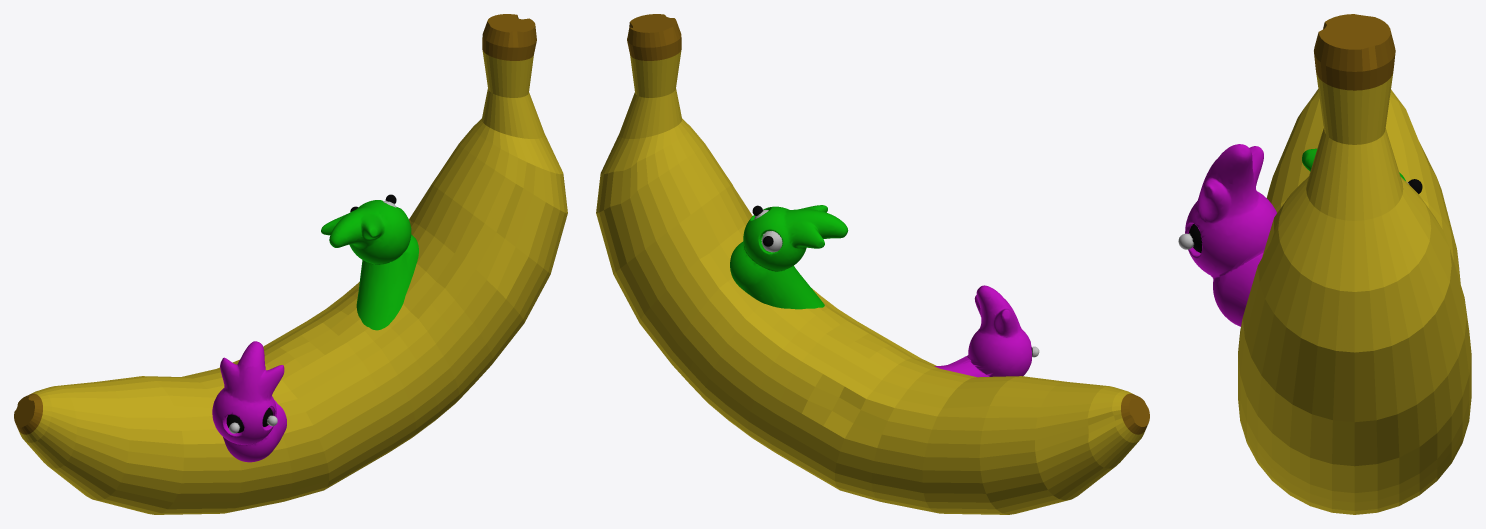
Rendered from osyofv_banana.gltf.
The picture shows the model from 3 angles, left to right: view 1: azimuth 30°, elevation 25°; view 2: azimuth 150°, elevation 25°; view 3: azimuth 270°, elevation 25°; orthographic projection. The views are drawn at different scales.
Visible parts, largest first — view 1: Cylinder, Layer_1, Layer_1.001; view 2: Cylinder, Layer_1, Layer_1.001; view 3: Cylinder, Layer_1.001, Layer_1.
Boxes of the visible parts, x1,y1,x2,y2 form: Cylinder: (14,14,567,514); Layer_1: (321,194,418,330); Layer_1.001: (212,341,286,462); Cylinder: (596,14,1149,514); Layer_1: (730,205,848,309); Layer_1.001: (934,285,1039,377); Cylinder: (1238,14,1471,514); Layer_1.001: (1178,144,1276,326); Layer_1: (1302,148,1422,193).
Size of the model in its own units: 1.94 by 1.43 by 0.6098.
